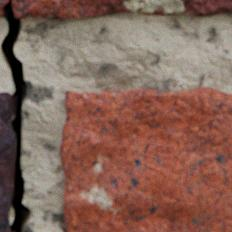brick: (60, 86, 231, 231), (0, 91, 15, 231)
broken_brick: (11, 0, 231, 18), (0, 0, 7, 16)
crack: (0, 0, 31, 231)
